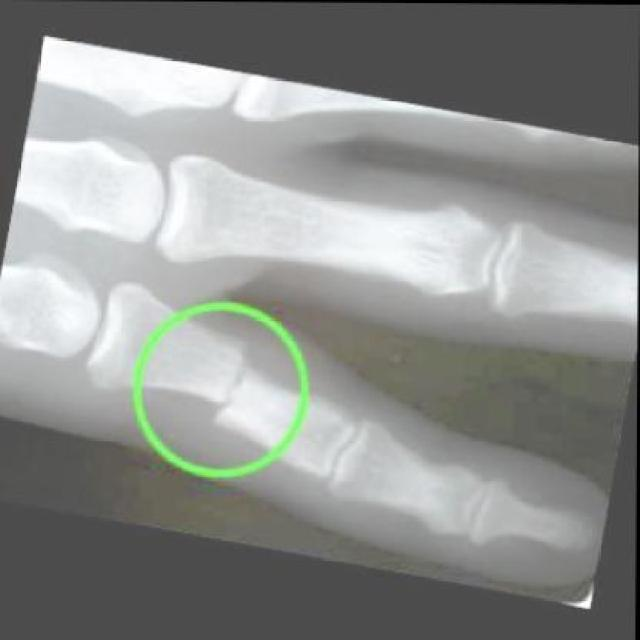Fracture: (188, 331, 278, 456)
